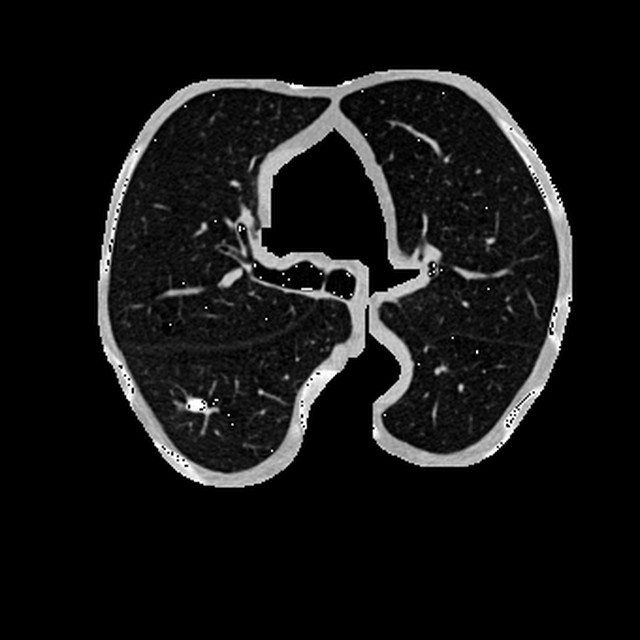PN: (183, 393, 205, 416)
